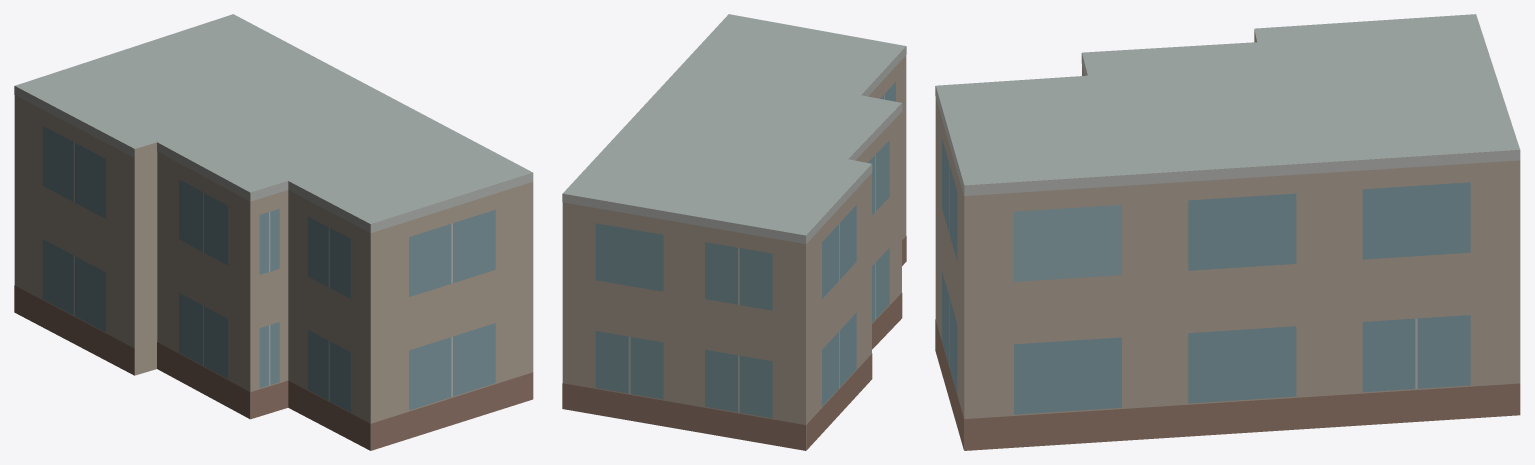
File: survey-upis-32951313.glb
The picture shows the model from 3 angles, left to right: view 1: azimuth 30°, elevation 25°; view 2: azimuth 150°, elevation 25°; view 3: azimuth 270°, elevation 25°; orthographic projection. The views are drawn at different scales.
Parts seen in each view (by area): view 1: survey-upis-32951313.tmp; view 2: survey-upis-32951313.tmp; view 3: survey-upis-32951313.tmp.
Part boxes in pixels (box(x1,y1,x2,y2)): survey-upis-32951313.tmp: box(14, 14, 533, 450); survey-upis-32951313.tmp: box(562, 14, 906, 450); survey-upis-32951313.tmp: box(935, 14, 1520, 450).
Bounding box in the file's own units: 8.46 × 6.1 × 12.19.
